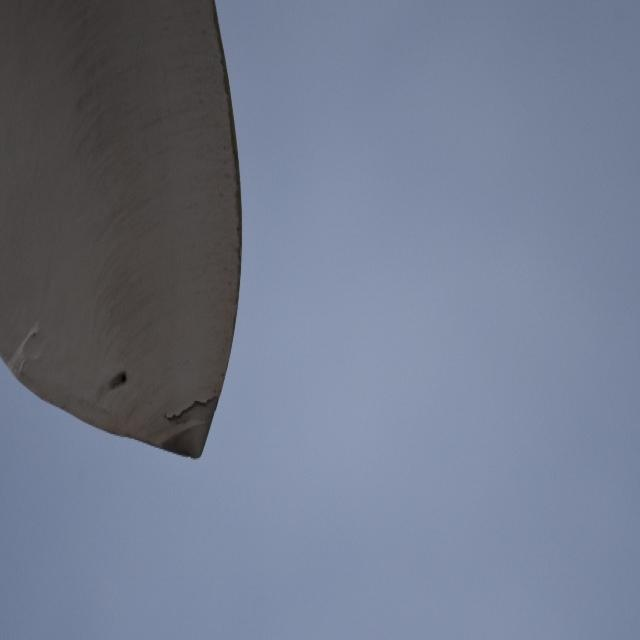Burn Mark: (99, 366, 133, 397)
Coating_defects: (149, 368, 229, 456)
Crack: (8, 322, 52, 384)
EROSION: (205, 27, 253, 336)
